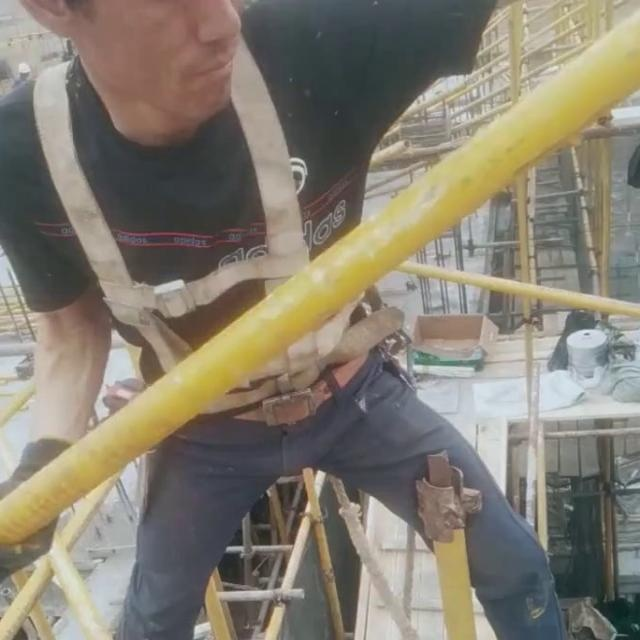Arnes_seguridad: (24, 20, 391, 383)
